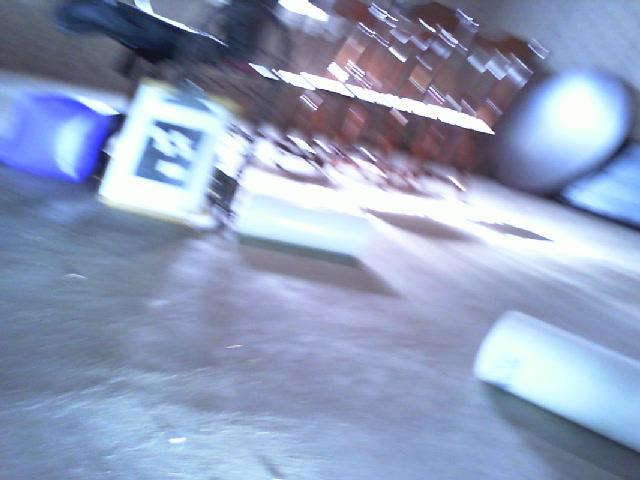coral: (474, 311, 640, 453), (237, 192, 369, 257)
